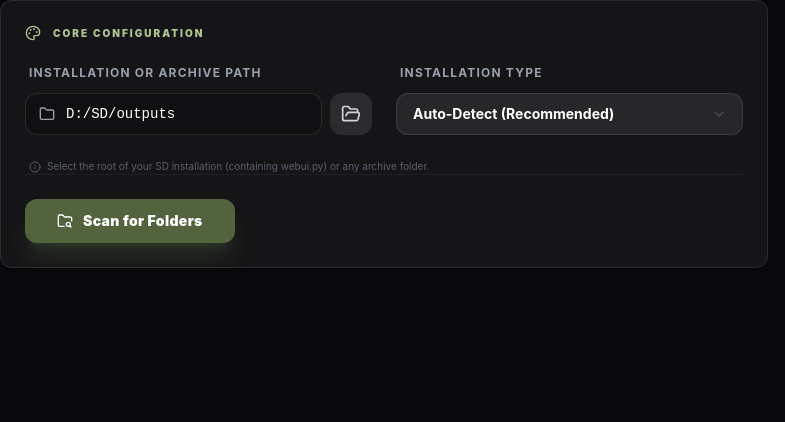
Test case: A1111Tab discovery warnings › surfaces warning-only discovery results and keeps the debug log visible
The width and height of the screenshot is (785, 422).
Click the button "Scan for Folders": (130, 221) [25,199,235,243]
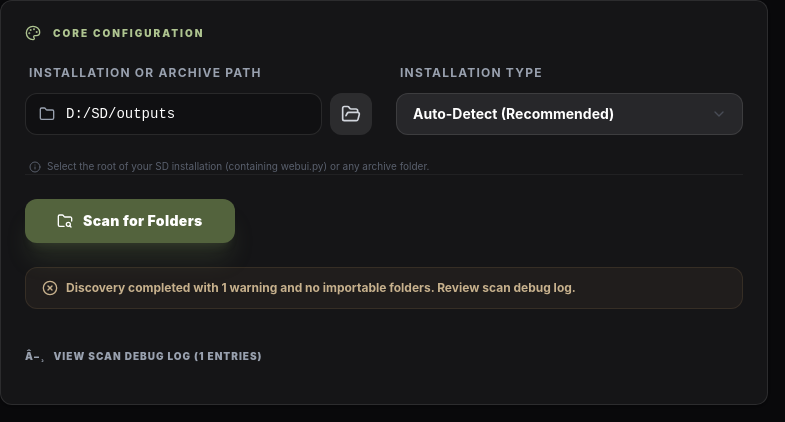
Check: the text "Discovery completed with 1 warning and no importable folders. Review scan debug log." is shown, box [66,280,576,295]
Check: the heading "â–¸ View Scan Debug Log (1 entries)" is shown, box [25,350,262,362]
